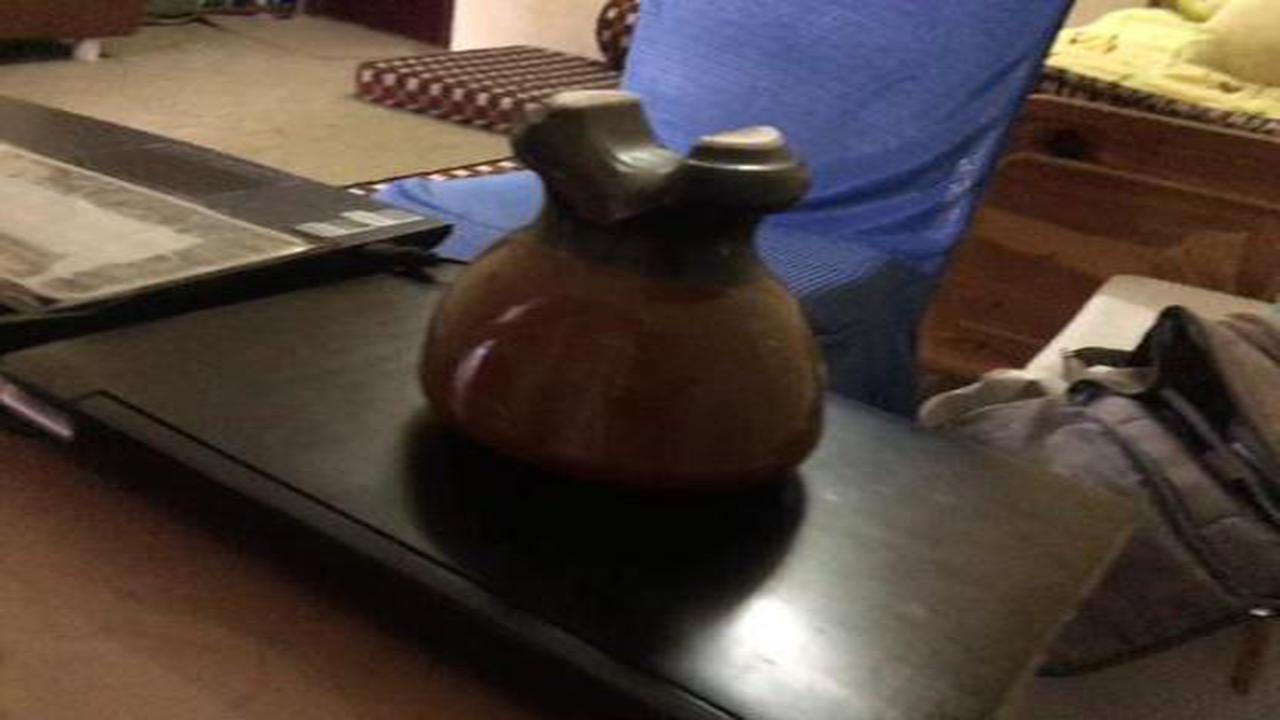insulator_pin: (409, 73, 853, 520)
